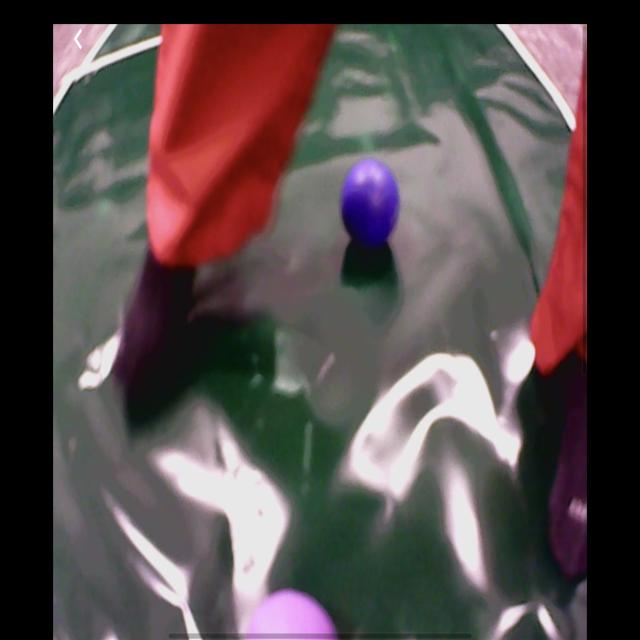ball: (341, 156, 401, 248), (244, 589, 340, 640)
